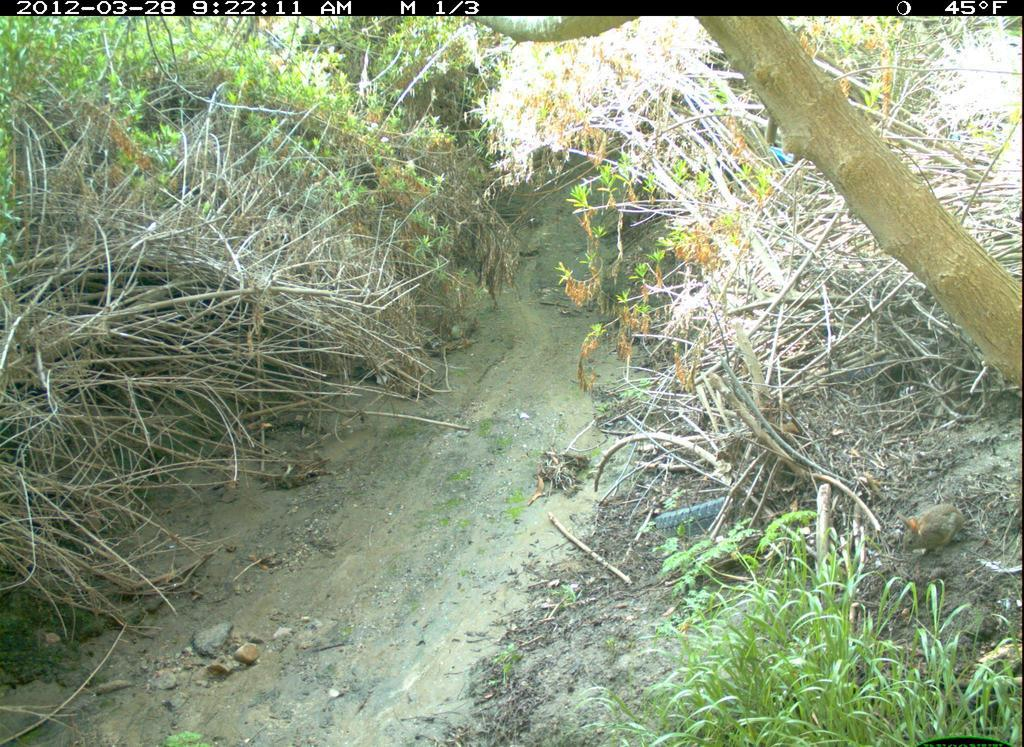rabbit: (889, 497, 986, 566)
